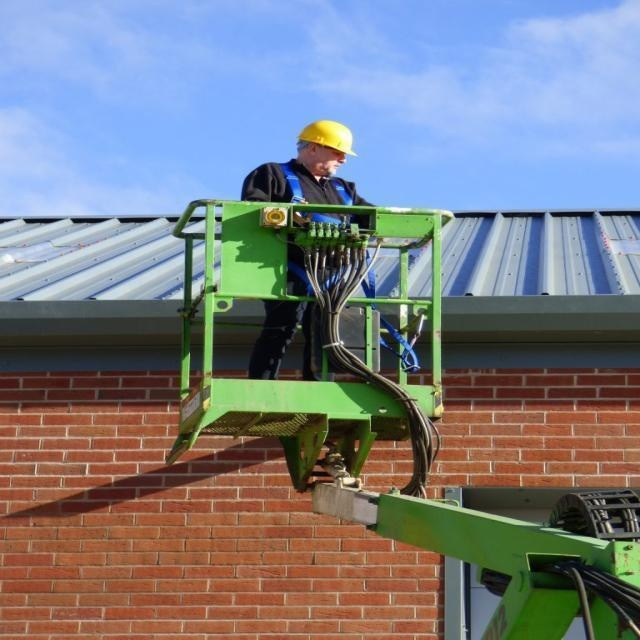Arnes_seguridad: (274, 163, 352, 299)
